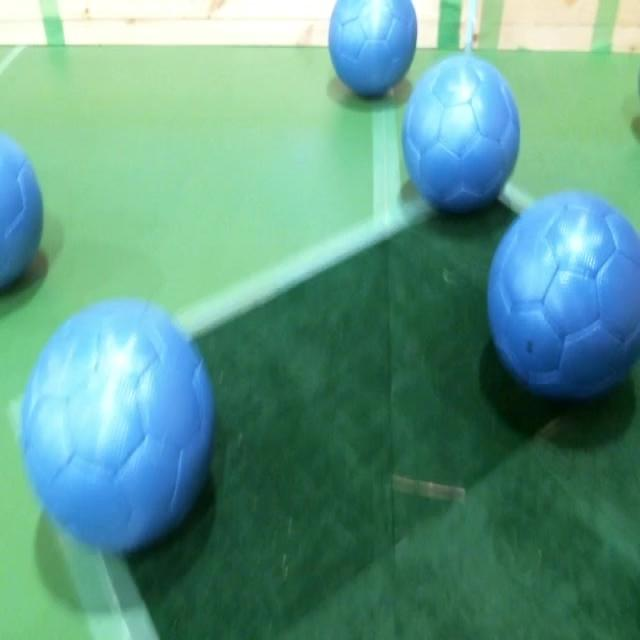blue_ball: (17, 300, 216, 552), (486, 196, 640, 408), (401, 57, 524, 209), (329, 0, 416, 96), (0, 132, 43, 292)
